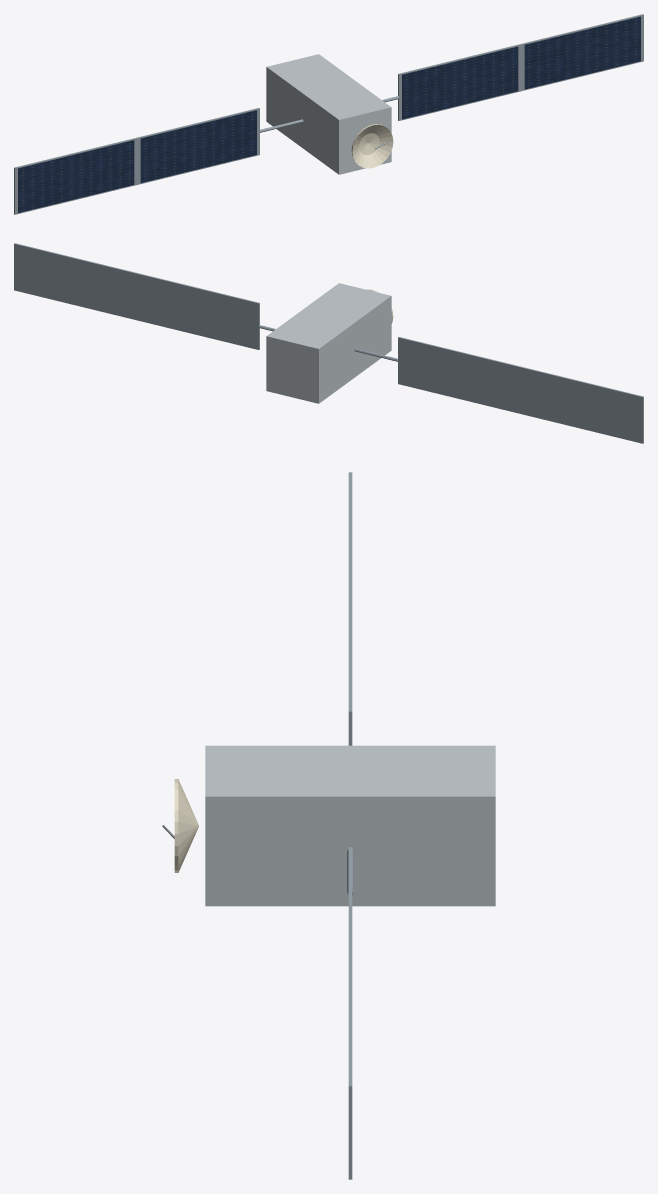
File: ref-vortex-19458.glb
3 views of the same model, one above another, from view 1: azimuth 30°, elevation 25°; view 2: azimuth 150°, elevation 25°; view 3: azimuth 270°, elevation 25° (orthographic). The views are drawn at different scales.
Visible parts, largest first — view 1: Photovoltaic laminates (×4), Spacecraft body, Array frame (×4), Reflector dish; view 2: Array frame (×4), Spacecraft body; view 3: Spacecraft body, Reflector dish, Array frame.
Boxes of the visible parts, x1=… form: Photovoltaic laminates (×4): x1=18, y1=16, x2=640, y2=212; Spacecraft body: x1=266, y1=54, x2=391, y2=174; Array frame (×4): x1=14, y1=14, x2=643, y2=214; Reflector dish: x1=351, y1=124, x2=393, y2=168; Array frame (×4): x1=14, y1=243, x2=643, y2=443; Spacecraft body: x1=266, y1=283, x2=391, y2=403; Spacecraft body: x1=205, y1=745, x2=495, y2=906; Reflector dish: x1=174, y1=779, x2=198, y2=872; Array frame: x1=348, y1=966, x2=352, y2=1179.
Size of the model in its own units: 30 by 2.5 by 6.89.
4 materials, 1 textured.
